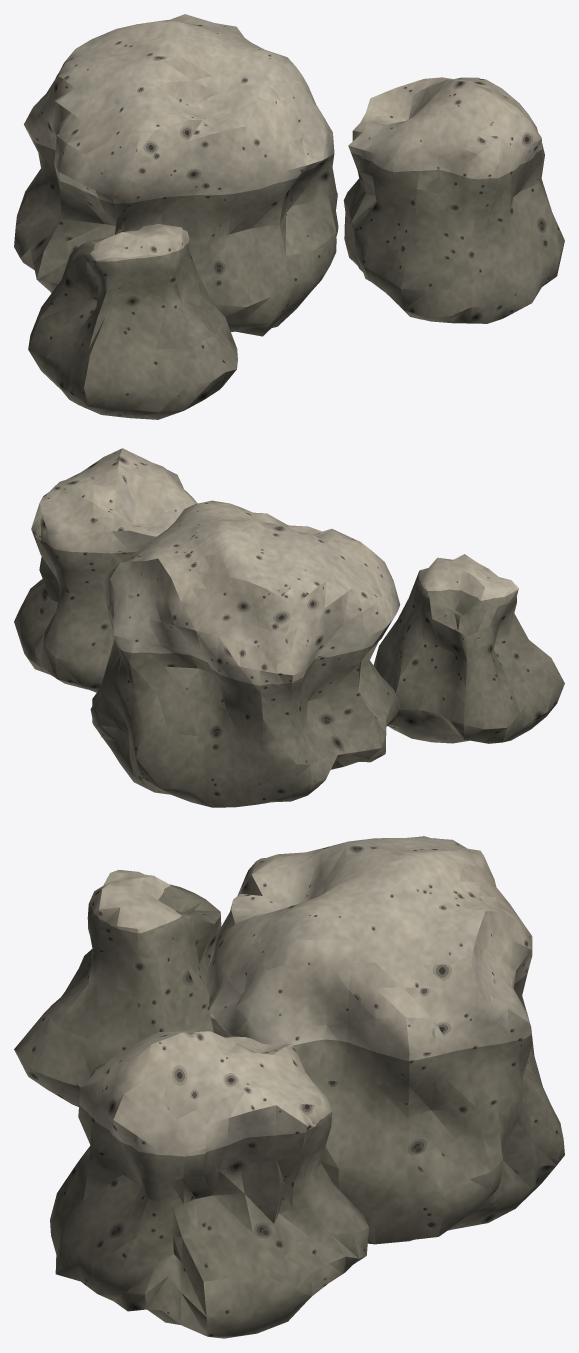
The picture shows the model from 3 angles, top to bottom: view 1: azimuth 30°, elevation 25°; view 2: azimuth 150°, elevation 25°; view 3: azimuth 270°, elevation 25°; orthographic projection. The views are drawn at different scales.
Parts seen in each view (by area): view 1: rock_wet, rock; view 2: rock_wet, rock; view 3: rock_wet, rock.
Boxes of the visible parts, x1,y1,x2,y2 form: rock_wet: (14,137,564,419); rock: (24,14,542,261); rock_wet: (14,535,564,807); rock: (31,448,518,685); rock_wet: (14,884,564,1338); rock: (79,836,532,1156).
Size of the model in its own units: 2.76 by 1.42 by 2.01.
Materials: 2 (2 with a texture image).
